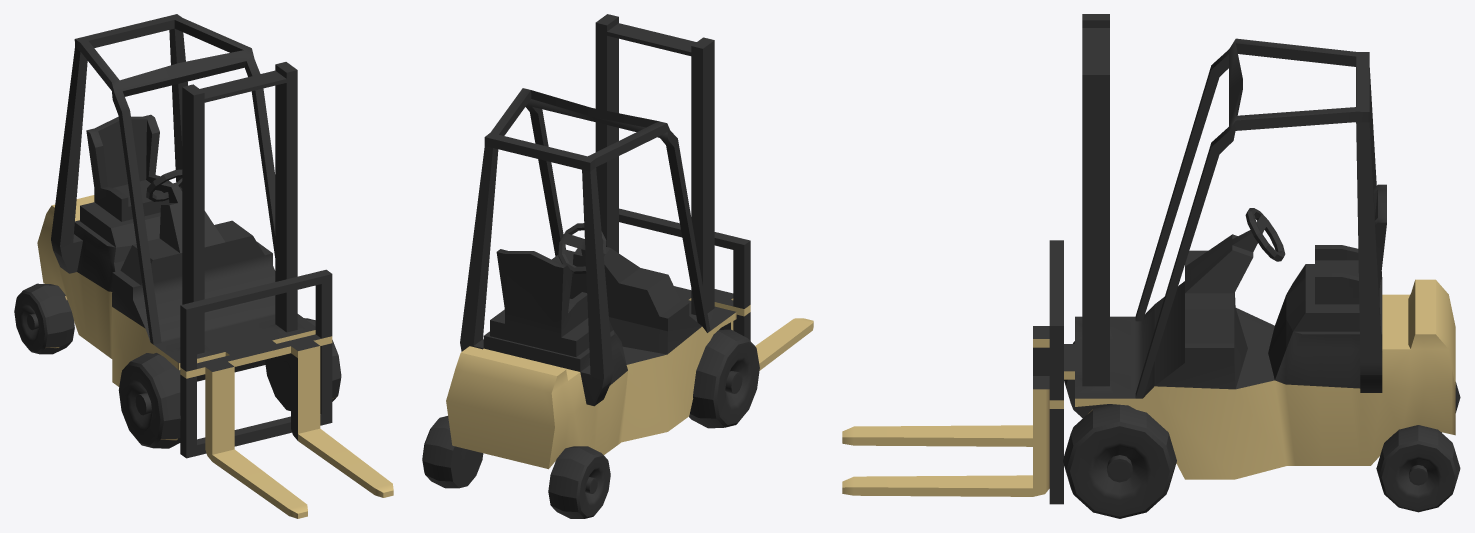
File: Forklift.fbx
3 views of the same model, side by side, from view 1: azimuth 30°, elevation 25°; view 2: azimuth 150°, elevation 25°; view 3: azimuth 270°, elevation 25° (orthographic). The views are drawn at different scales.
Visible parts, largest first — view 1: polySurface5; view 2: polySurface5; view 3: polySurface5.
Boxes of the visible parts, left/top/right/bottom form: polySurface5: left=14, top=14, right=393, bottom=518; polySurface5: left=422, top=14, right=813, bottom=518; polySurface5: left=842, top=14, right=1460, bottom=518.
Size of the model in its own units: 0.028 by 0.0529 by 0.0691.
Materials: 1 (1 with a texture image).
